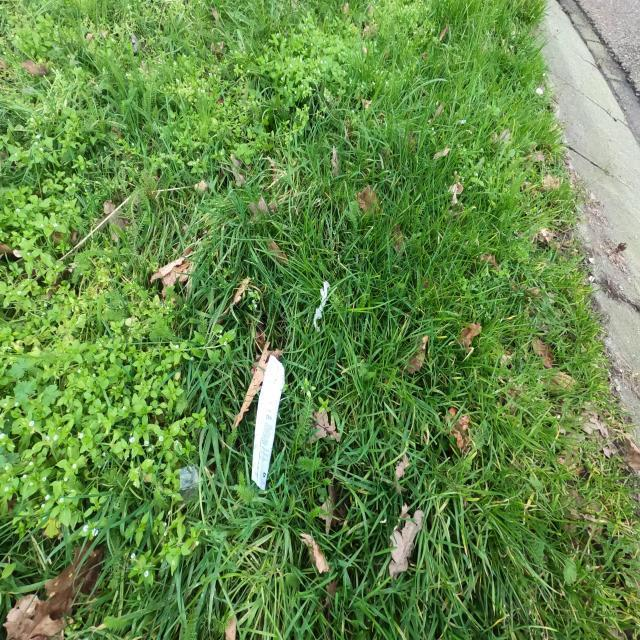Paper: (252, 342, 288, 502)
